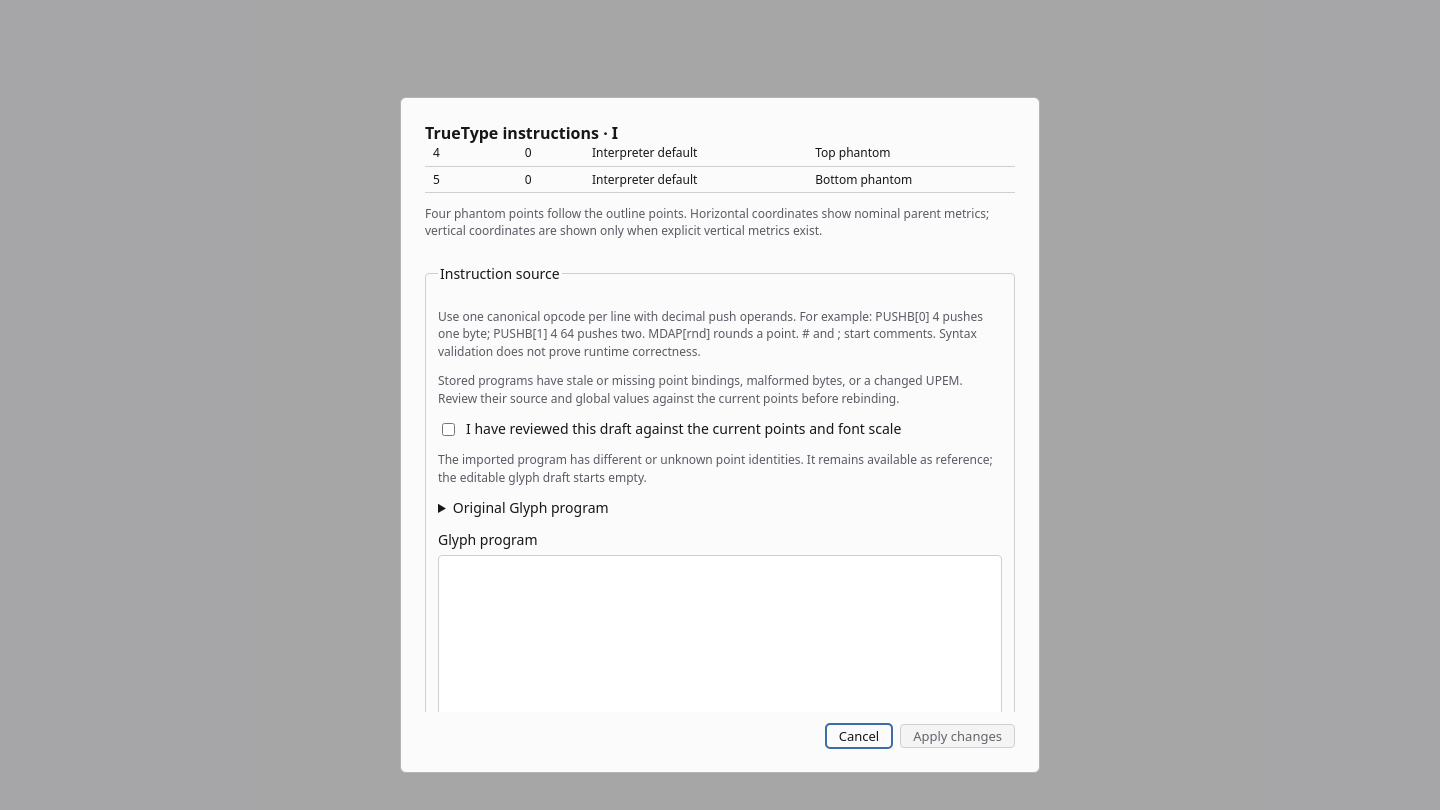
Test: keeps incompatible imported instructions as reference and requires explicit review
(page scrolled)
Expected: the text box labelled "Glyph program" is empty, [438,555,1002,712]
Expected: the button "Apply changes" is disabled, [900,724,1015,748]
Click the checkbox labelled "I have reviewed this draft against the current points and font scale". click: coordinates (448, 429)
box: [442,423,455,436]
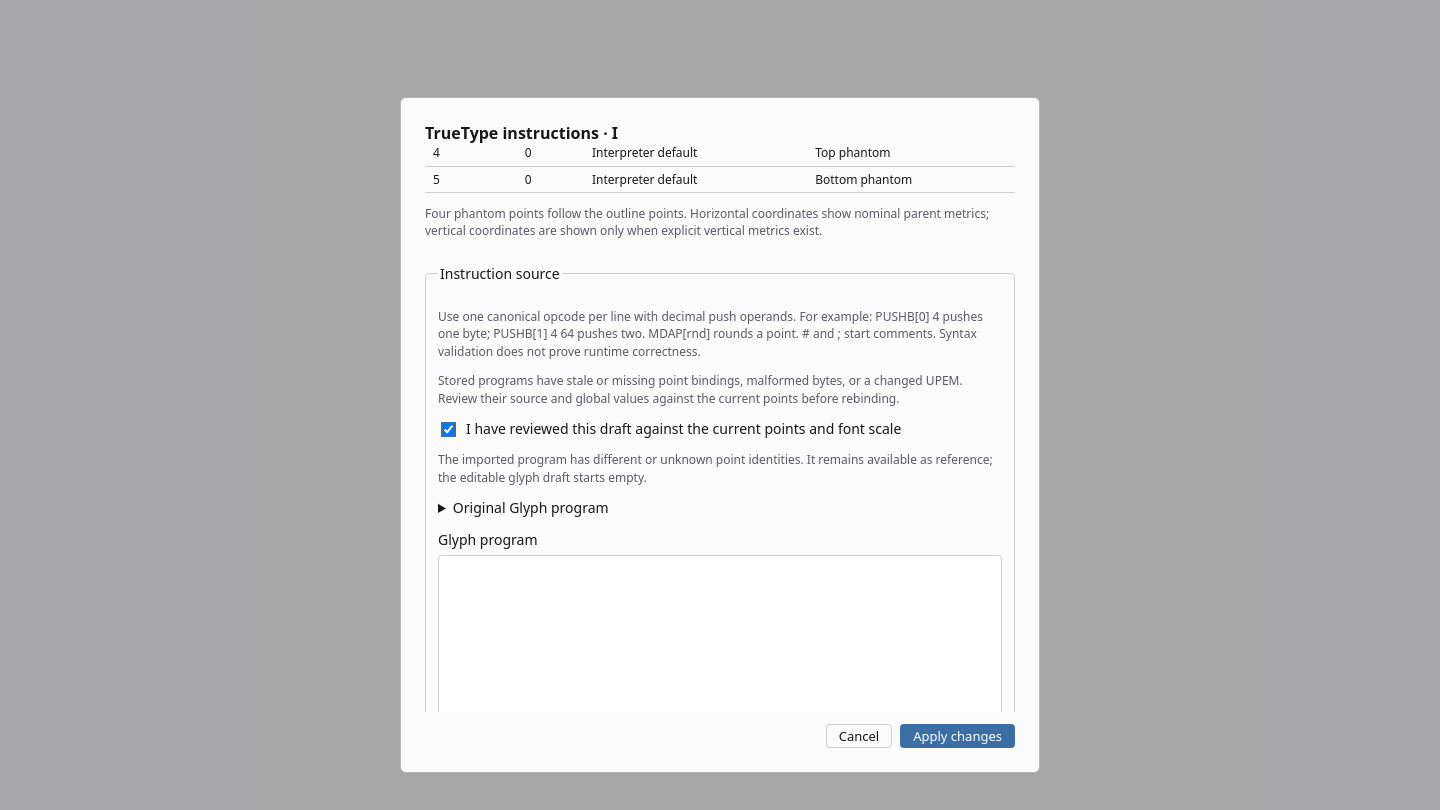
Result: the button "Apply changes" is enabled at [900,724,1015,748]
